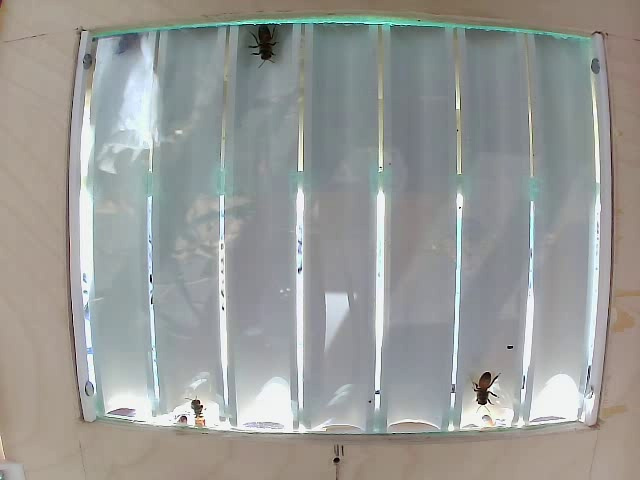bee: (248, 32, 285, 65)
